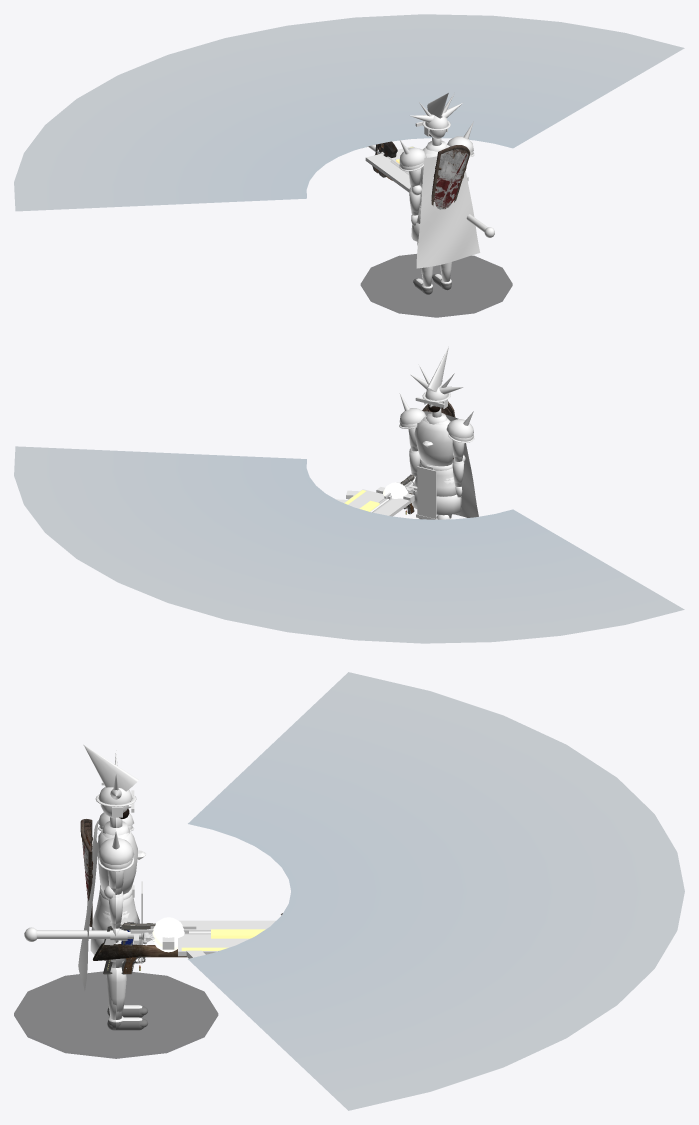
Rendered from hero.glb.
3 renders of one model, top to bottom at view 1: azimuth 30°, elevation 25°; view 2: azimuth 150°, elevation 25°; view 3: azimuth 270°, elevation 25°, orthographic. The views are drawn at different scales.
Visible parts, largest first — view 1: _MeshInstance3D_127, _MeshInstance3D_3, _MeshInstance3D_62, kite_shield_body, _MeshInstance3D_102; view 2: _MeshInstance3D_127, _MeshInstance3D_29, _MeshInstance3D_34, _MeshInstance3D_62, _MeshInstance3D_102, _MeshInstance3D_30, _MeshInstance3D_31; view 3: _MeshInstance3D_127, _MeshInstance3D_3, _MeshInstance3D_102, wooden_axe_03, _MeshInstance3D_59, _MeshInstance3D_62, _MeshInstance3D_30, _MeshInstance3D_29, _MeshInstance3D_123, _MeshInstance3D_66, _MeshInstance3D_99, _MeshInstance3D_21.
Boxes of the visible parts, x1,y1,x2,y2 form: _MeshInstance3D_127: (14, 14, 684, 211); _MeshInstance3D_3: (360, 254, 512, 317); _MeshInstance3D_62: (416, 156, 480, 268); kite_shield_body: (434, 149, 468, 209); _MeshInstance3D_102: (365, 146, 413, 192); _MeshInstance3D_127: (14, 446, 684, 643); _MeshInstance3D_29: (414, 419, 453, 466); _MeshInstance3D_34: (417, 466, 436, 518); _MeshInstance3D_62: (424, 411, 478, 517); _MeshInstance3D_102: (348, 489, 409, 516); _MeshInstance3D_30: (414, 459, 456, 496); _MeshInstance3D_31: (412, 491, 461, 515); _MeshInstance3D_127: (188, 672, 684, 1110); _MeshInstance3D_3: (14, 971, 218, 1058); _MeshInstance3D_102: (178, 920, 275, 956); wooden_axe_03: (93, 913, 282, 960); _MeshInstance3D_59: (83, 744, 138, 791); _MeshInstance3D_62: (78, 820, 98, 990); _MeshInstance3D_30: (92, 888, 139, 930); _MeshInstance3D_29: (97, 830, 137, 894); _MeshInstance3D_123: (152, 917, 184, 952); _MeshInstance3D_66: (98, 837, 134, 864); _MeshInstance3D_99: (37, 930, 141, 938); _MeshInstance3D_21: (106, 968, 126, 1012).
Size of the model in its own units: 7.12 by 2.11 by 4.6.
Materials: 31 (15 with a texture image).
